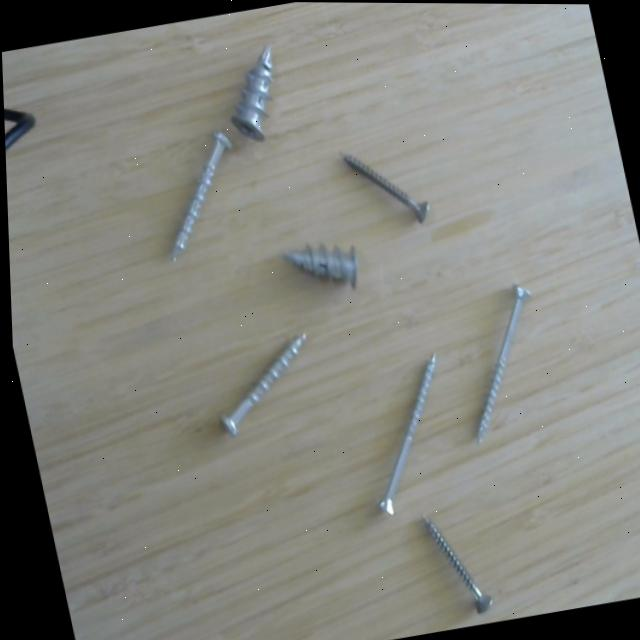Black screw: (330, 127, 439, 243), (402, 500, 498, 624)
Long screw: (338, 344, 469, 525), (437, 267, 565, 452)
Medium screw: (136, 121, 258, 270), (192, 323, 326, 442)
Short screw: (213, 33, 298, 158), (268, 222, 367, 305)
